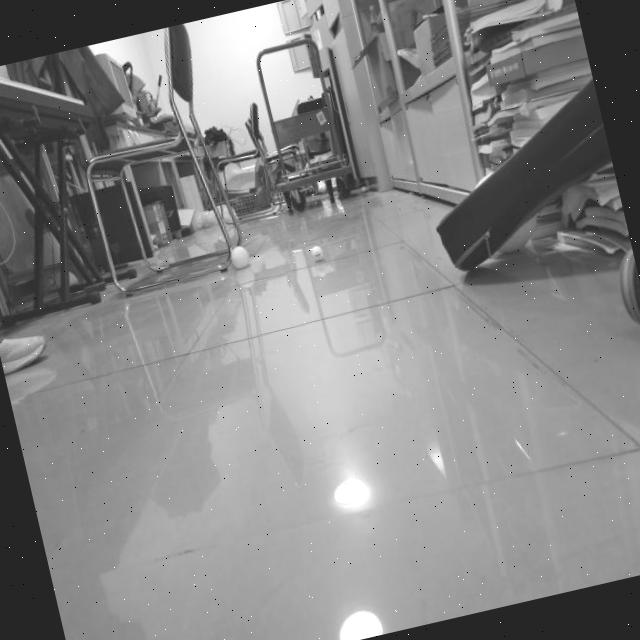ping-pong-ball: (309, 243, 325, 263)
